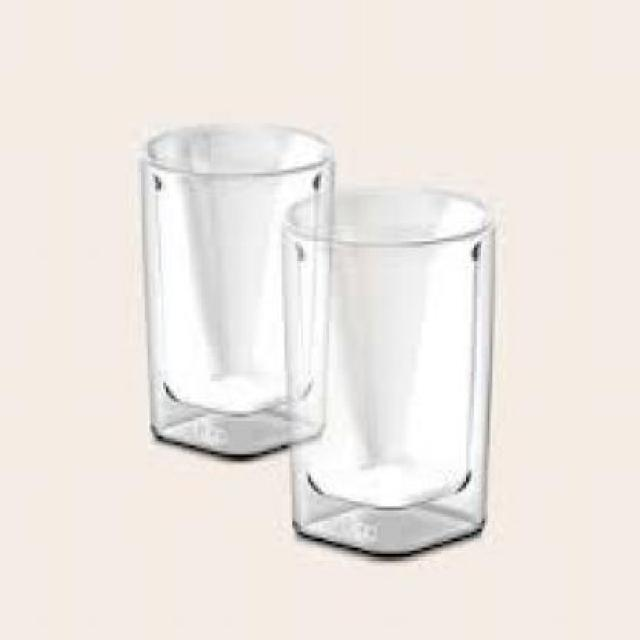kaca: (280, 183, 492, 554), (140, 121, 329, 462)
